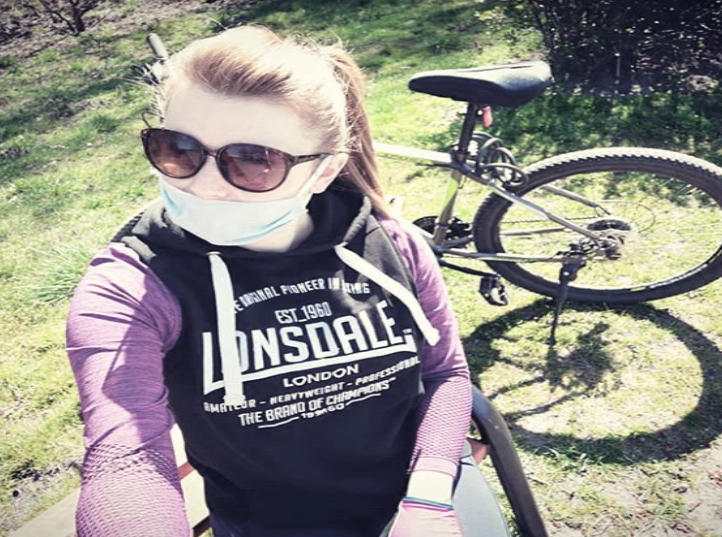mask_weared_incorrect: (135, 30, 359, 249)
